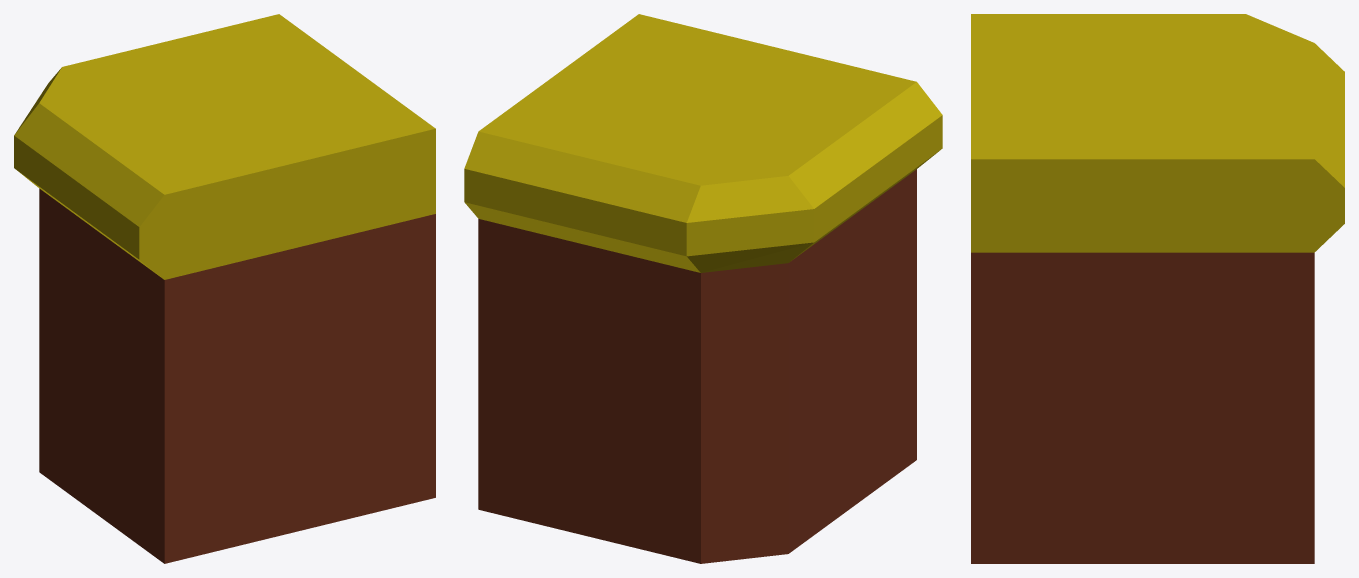
File: SendBlockCorner.fbx
3 renders of one model, left to right at view 1: azimuth 30°, elevation 25°; view 2: azimuth 150°, elevation 25°; view 3: azimuth 270°, elevation 25°, orthographic. The views are drawn at different scales.
Visible parts, largest first — view 1: Corner; view 2: Corner; view 3: Corner.
Boxes of the visible parts, x1,y1,x2,y2 form: Corner: (14,14,435,563); Corner: (464,14,942,563); Corner: (971,14,1344,563).
Size of the model in its own units: 109 by 130 by 109.
